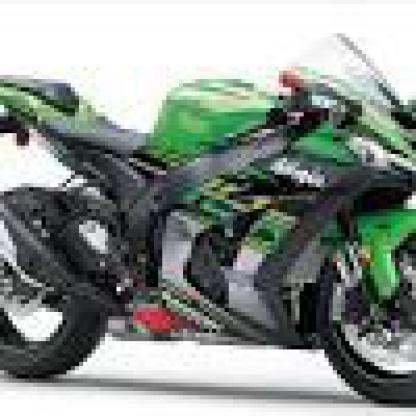Motorcycle: (0, 46, 412, 408)
